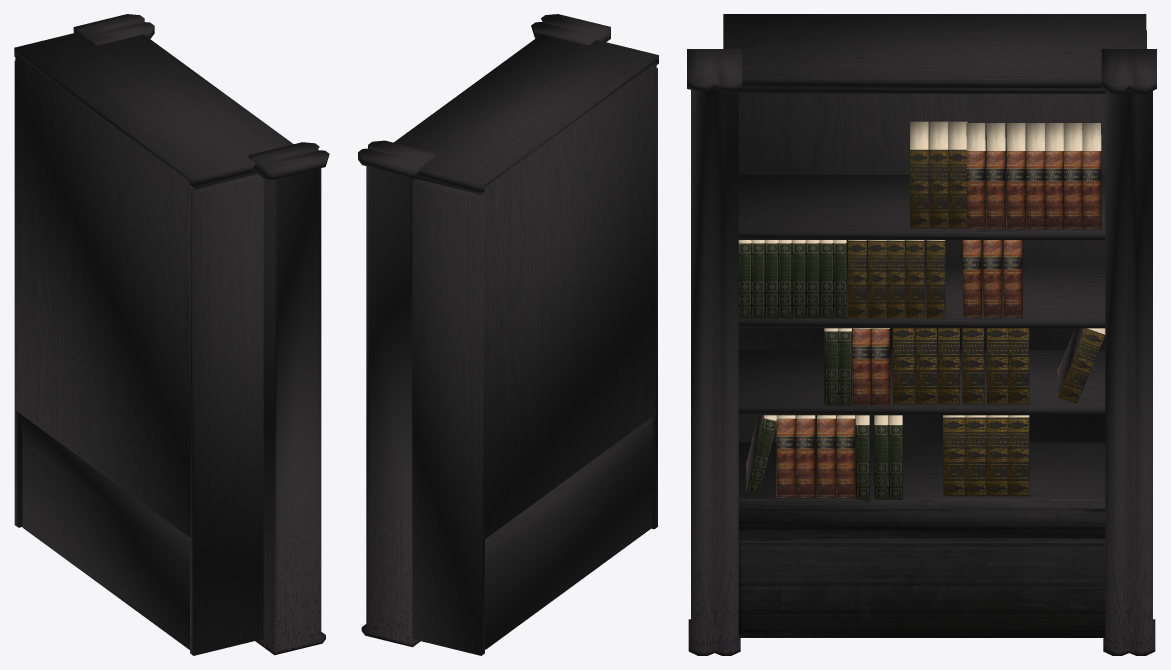
The model's file is FPH_Library02.fbx.
3 views of the same model, side by side, from view 1: azimuth 30°, elevation 25°; view 2: azimuth 150°, elevation 25°; view 3: azimuth 270°, elevation 25° (orthographic). The views are drawn at different scales.
Visible parts, largest first — view 1: FPH_LibraryTwo; view 2: FPH_LibraryTwo; view 3: FPH_LibraryTwo.
Part boxes in pixels (left/top/right/bottom): FPH_LibraryTwo: left=14, top=14, right=329, bottom=655; FPH_LibraryTwo: left=358, top=14, right=658, bottom=655; FPH_LibraryTwo: left=687, top=14, right=1156, bottom=655.
Bounding box in the file's own units: 3.18 × 11.61 × 8.62.
